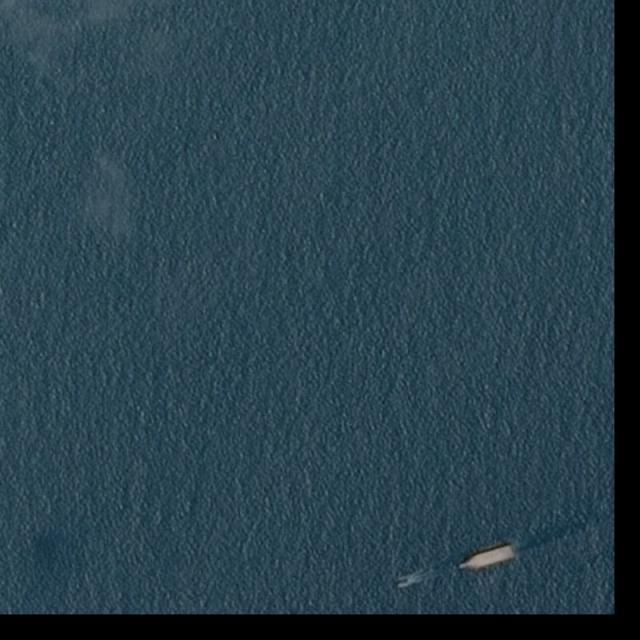ship: (456, 543, 518, 576), (394, 578, 410, 586)
